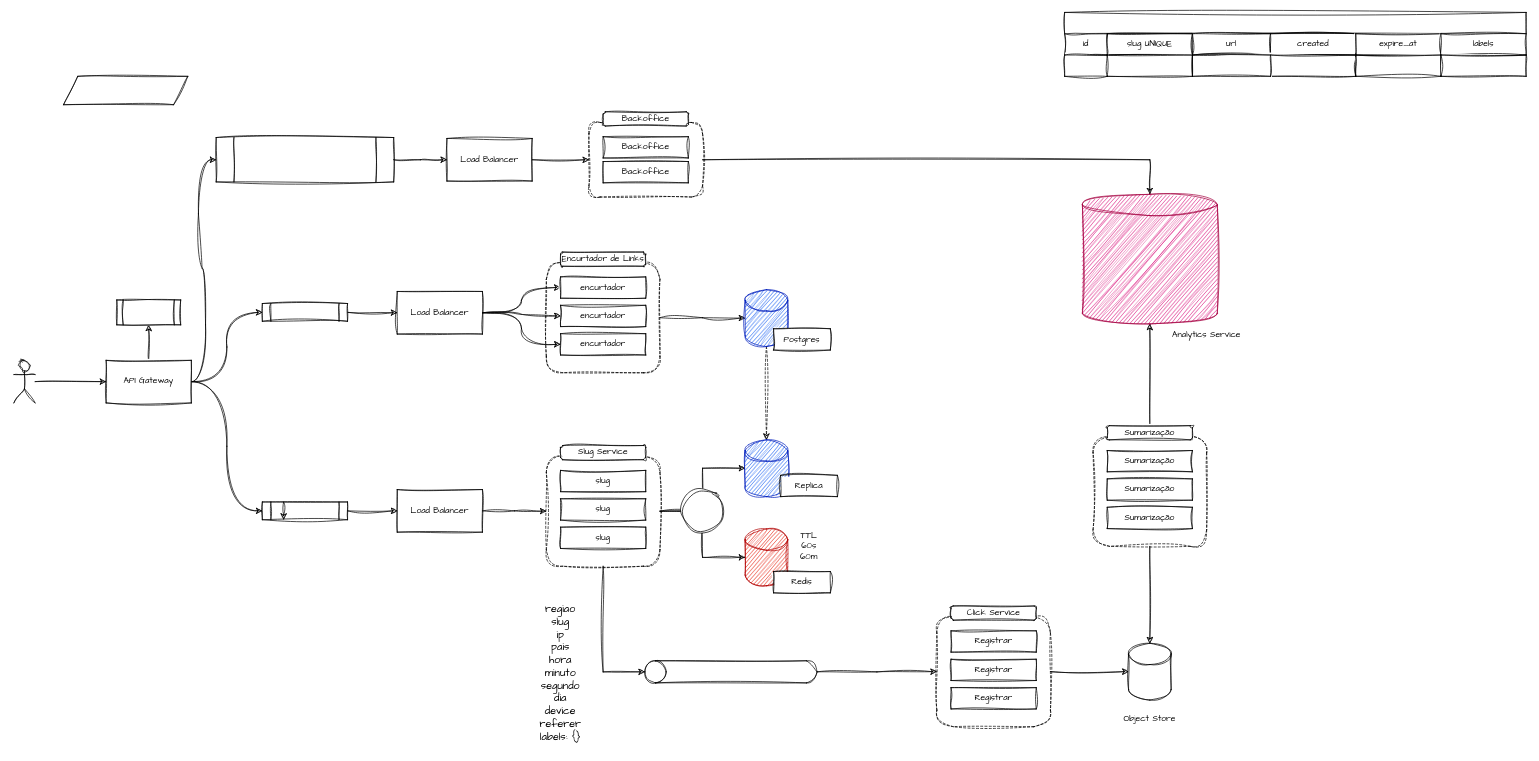
Image size: 1539x761. Some labels were removed from this diagram. The shapes that lost their labels are listed below. From the top down, each one's centre as x and y in pixels, then its label:
[1295,23]: Tabela Links
[125,90]: MVP 1000 TPS
[304,159]: [get] /api/links/{slug}/ stats?from=YYYY-MM-DD&to=YYYY-MM-DD
[148,312]: Rate Limit
[305,312]: [POST] /links
[24,381]: Actor
[305,510]: [get] /{slug}
[702,510]: Cache Aside
[730,671]: Click Registrado
